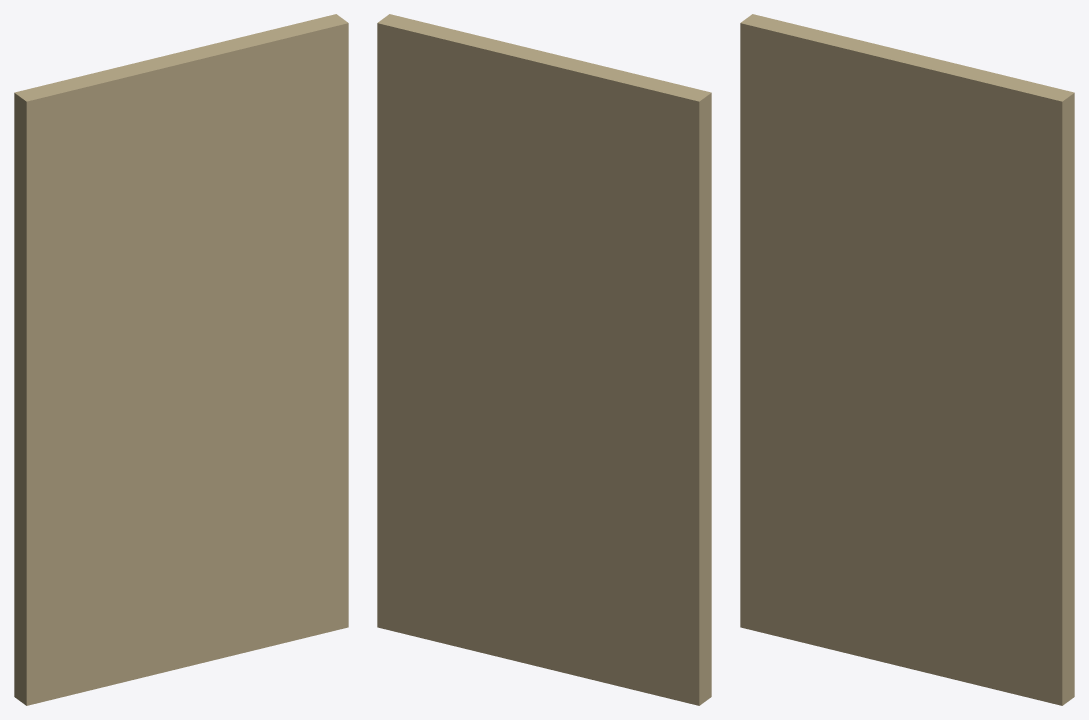
3 views of the same model, side by side, from view 1: azimuth 30°, elevation 25°; view 2: azimuth 150°, elevation 25°; view 3: azimuth 330°, elevation 25° (orthographic).
Parts seen in each view (by area): view 1: GF-W095; view 2: GF-W095; view 3: GF-W095.
Part boxes in pixels (x1=…): GF-W095: x1=14, y1=14, x2=348, y2=705; GF-W095: x1=377, y1=14, x2=711, y2=705; GF-W095: x1=740, y1=14, x2=1074, y2=705.
Bounding box in the file's own units: 1.35 × 2.42 × 0.09.
